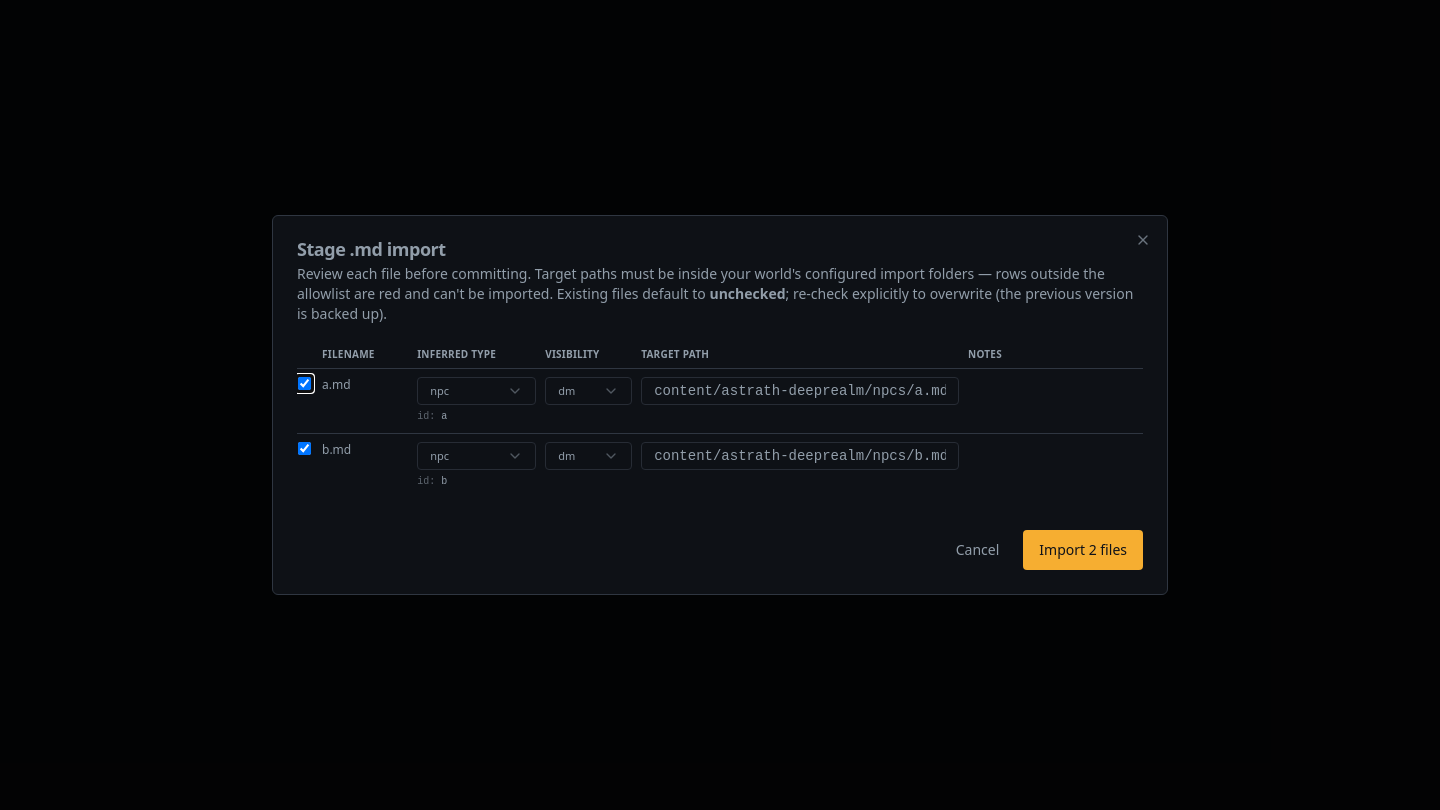
Scenario: ImportStagingModal › Import button reflects the count of included rows
Check: the button "Import 2 files" is shown, box [1023,530,1143,570]
Click the checkbox named "Include a.md" at (304, 384), box [298,377,311,390]
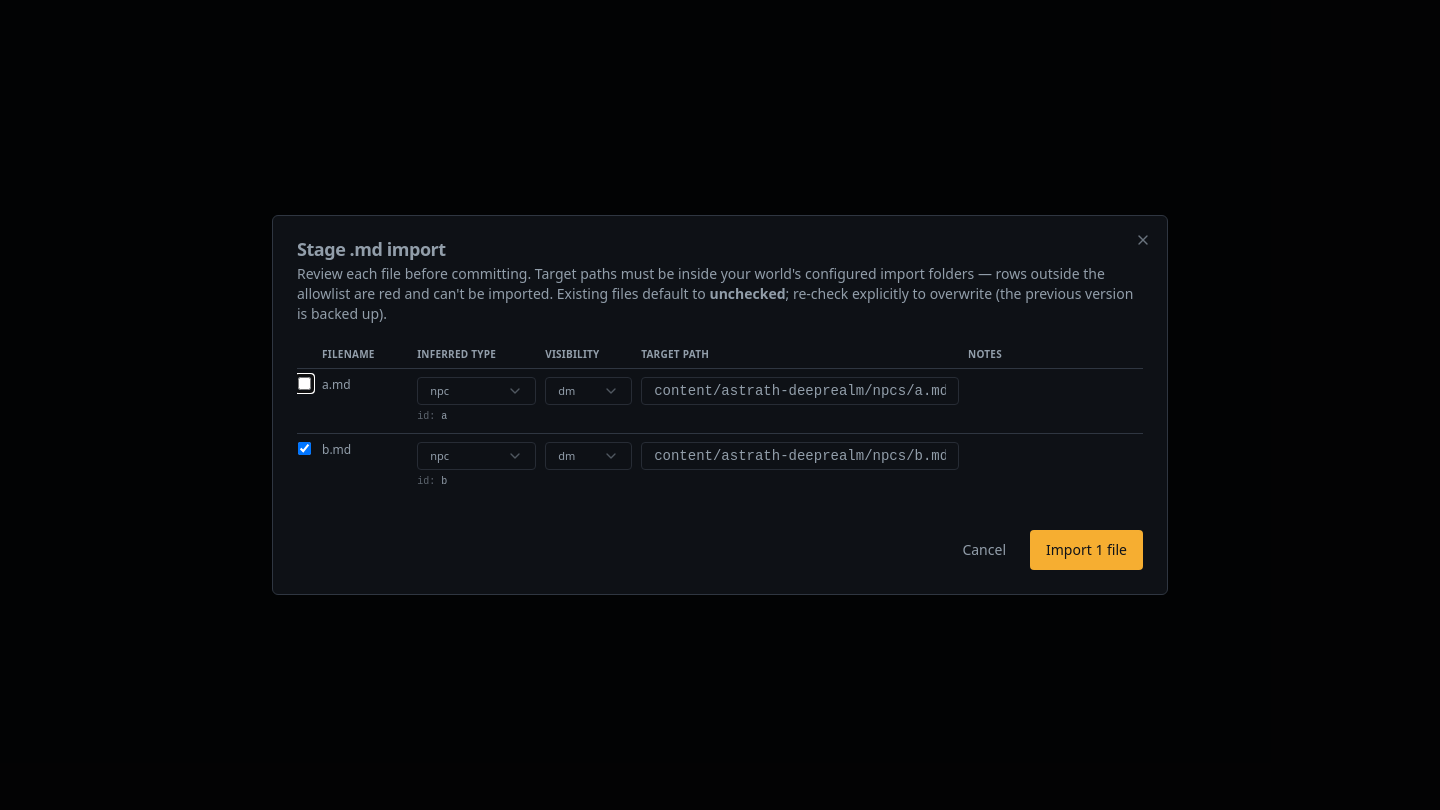
Check: the button "Import 1 file" is shown, box [1030,530,1143,570]
